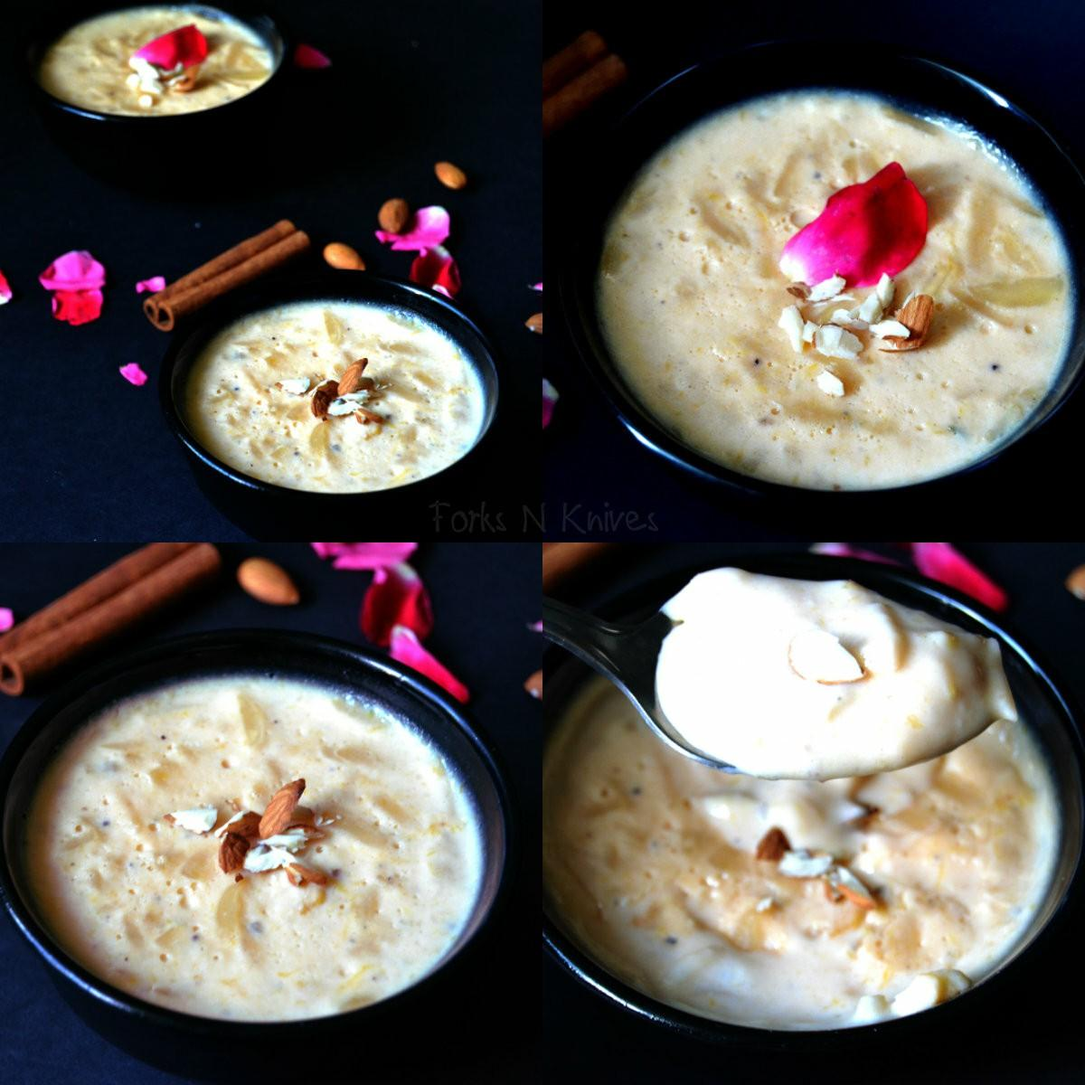Kheer: (602, 90, 1072, 490), (540, 697, 1061, 1028), (35, 680, 477, 1017), (656, 566, 1011, 775), (197, 302, 484, 487), (47, 0, 265, 117)
